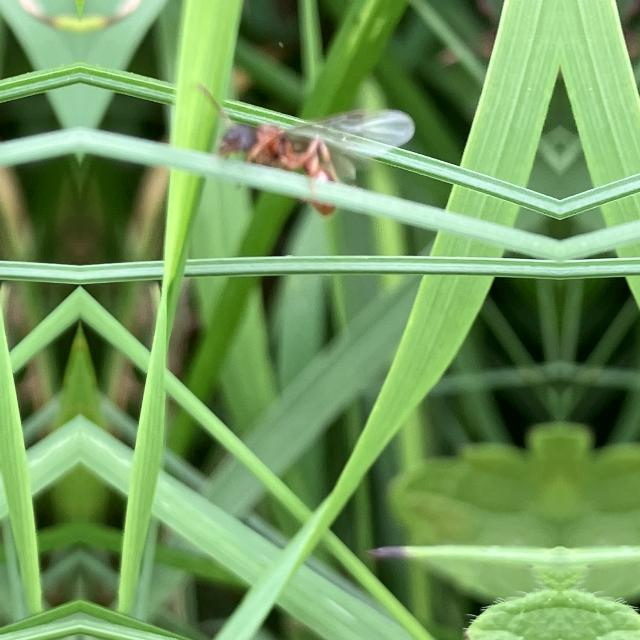Myrmica: (202, 103, 358, 230)
